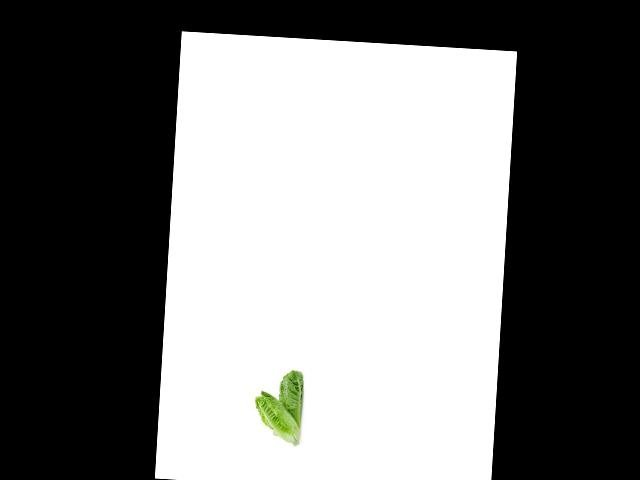lettuce: (275, 364, 309, 430)
